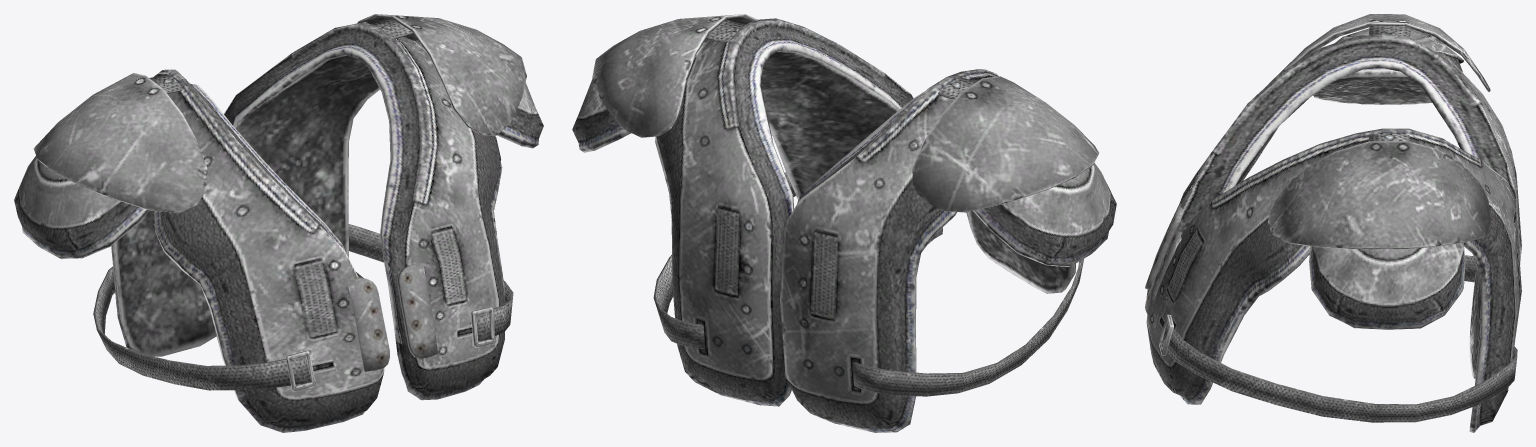
The model's file is SurvivorMale_Armor_FootballPads_LOD0.glb.
3 renders of one model, left to right at view 1: azimuth 30°, elevation 25°; view 2: azimuth 150°, elevation 25°; view 3: azimuth 270°, elevation 25°, orthographic. The views are drawn at different scales.
Visible parts, largest first — view 1: Hoodie; view 2: Hoodie; view 3: Hoodie.
Part boxes in pixels (x1,y1,x2,y2): Hoodie: [14, 14, 543, 432]; Hoodie: [572, 14, 1116, 432]; Hoodie: [1145, 14, 1521, 432].
Bounding box in the file's own units: 0.5691 × 0.349 × 0.3844.
1 material, 1 textured.
